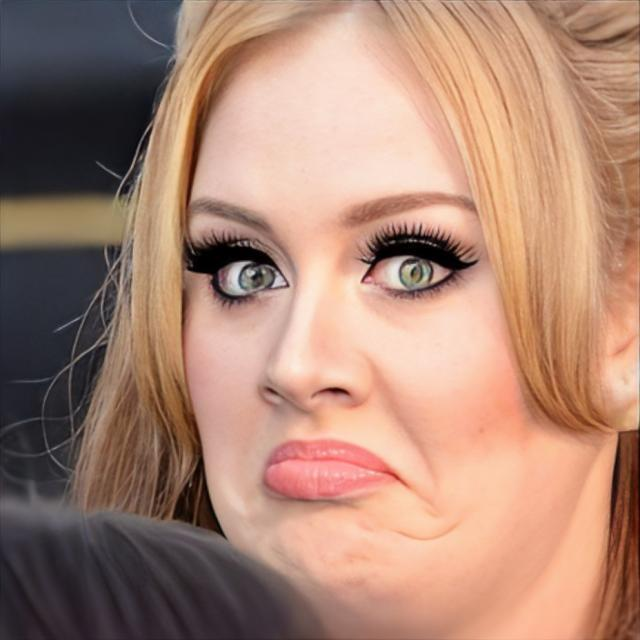disgust: (183, 0, 605, 640)
